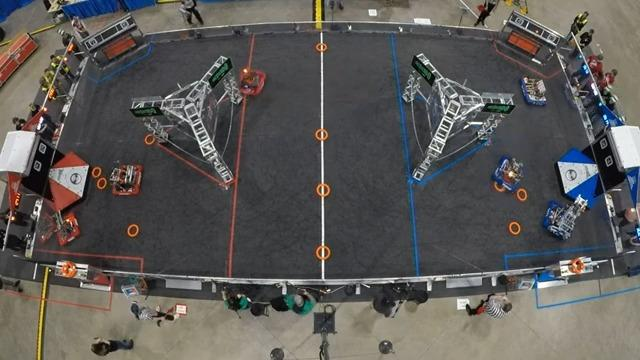robot: (543, 189, 586, 243), (109, 156, 144, 201), (491, 153, 526, 193), (52, 207, 83, 249), (521, 71, 552, 109), (237, 63, 267, 98)
